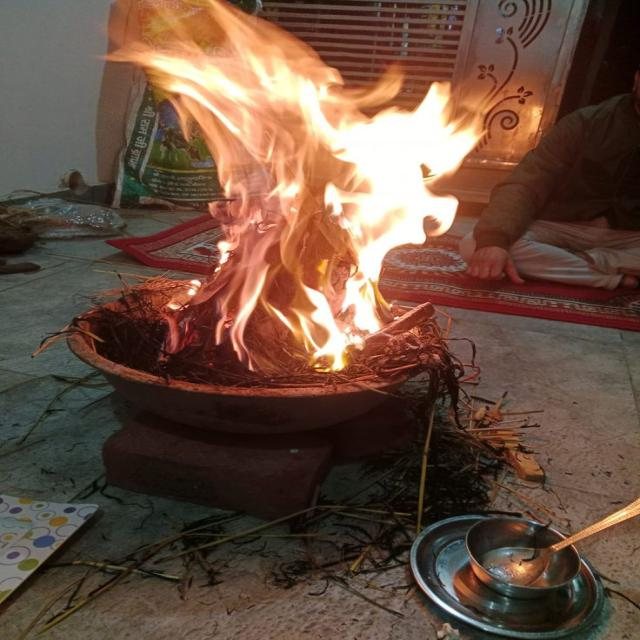fire: (144, 1, 487, 373)
